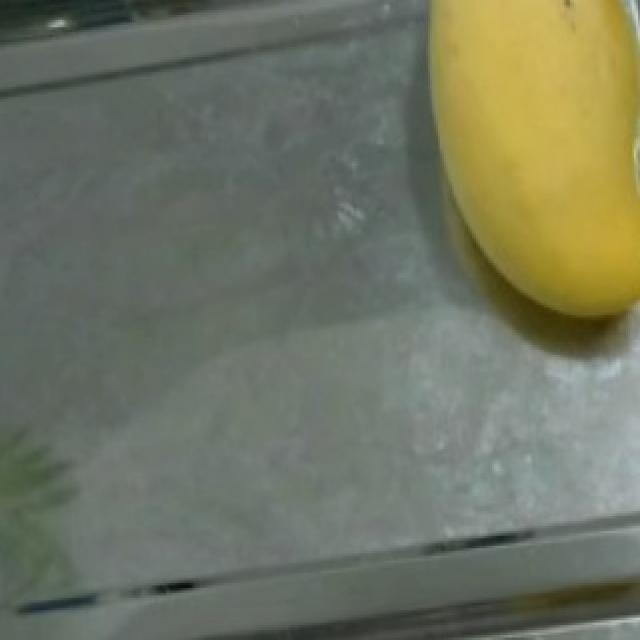fruit: (356, 0, 640, 325)
